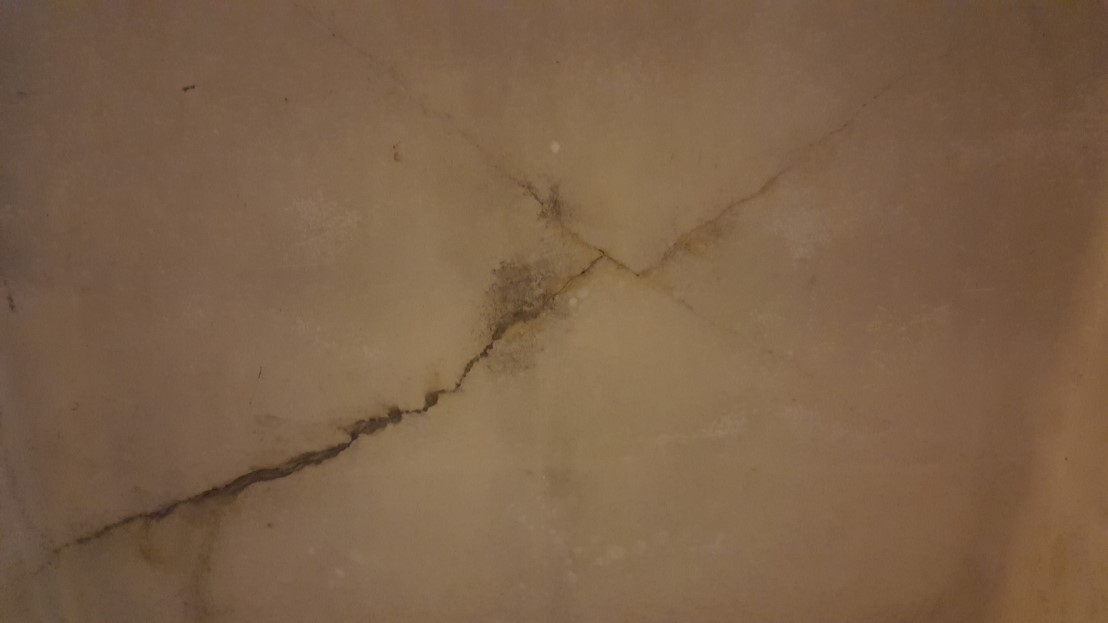Crack: (32, 250, 624, 577), (584, 0, 991, 286), (303, 10, 655, 287)
